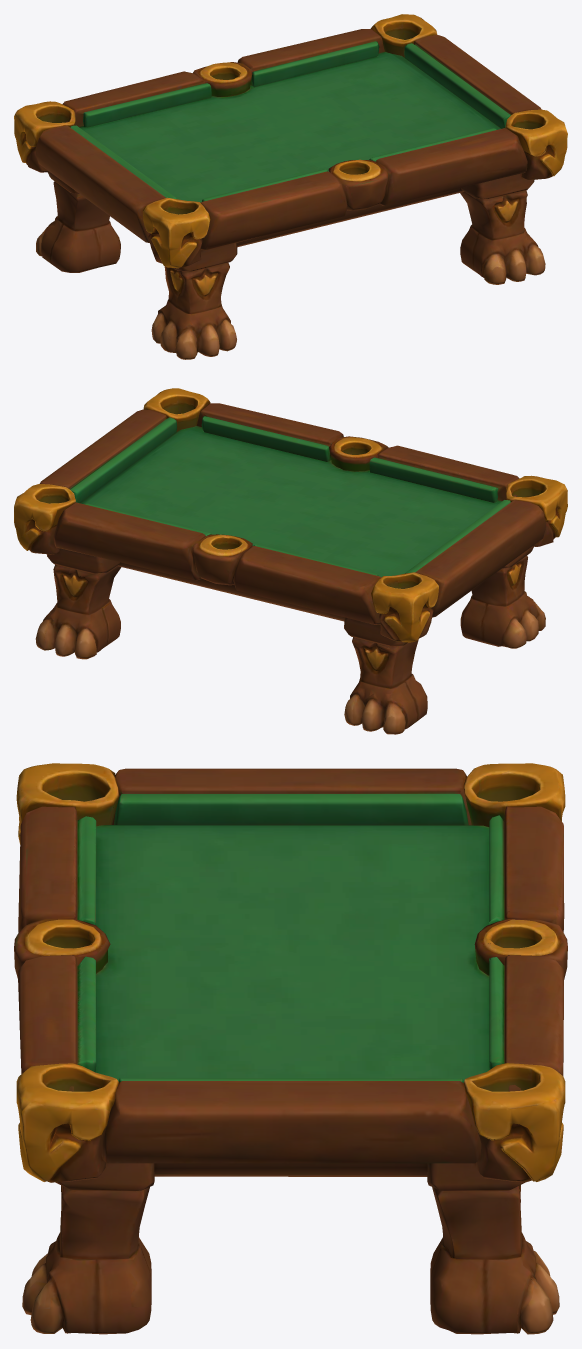
Rendered from billard_table.glb.
The picture shows the model from 3 angles, top to bottom: view 1: azimuth 30°, elevation 25°; view 2: azimuth 150°, elevation 25°; view 3: azimuth 270°, elevation 25°; orthographic projection. The views are drawn at different scales.
Parts seen in each view (by area): view 1: geometry_0; view 2: geometry_0; view 3: geometry_0.
Boxes of the visible parts, <box> form: geometry_0: <box>14,14,567,359</box>; geometry_0: <box>14,388,567,734</box>; geometry_0: <box>14,763,567,1334</box>.
Bounding box in the file's own units: 0.9546 × 0.3276 × 0.6499.
1 material, 1 textured.
